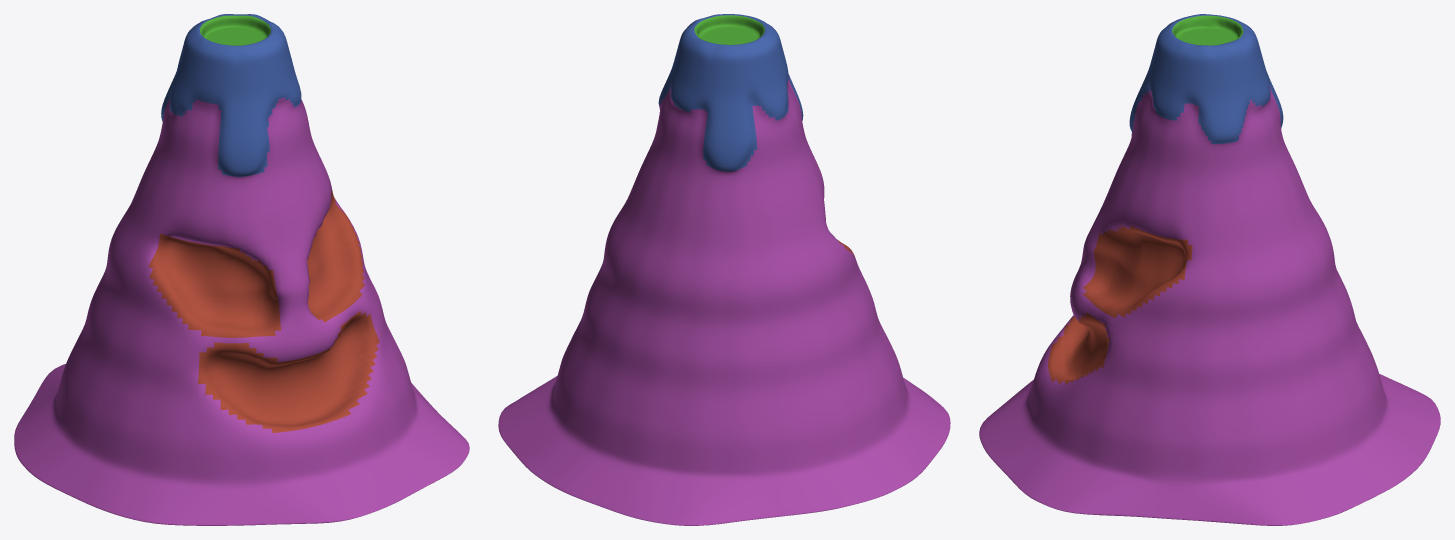
File: Volevil_high.fbx
3 views of the same model, side by side, from view 1: azimuth 30°, elevation 25°; view 2: azimuth 150°, elevation 25°; view 3: azimuth 270°, elevation 25° (orthographic).
Parts seen in each view (by area): view 1: Vol_high; view 2: Vol_high; view 3: Vol_high.
Boxes of the visible parts, left/top/right/bottom form: Vol_high: left=14, top=14, right=469, bottom=525; Vol_high: left=498, top=14, right=950, bottom=525; Vol_high: left=979, top=14, right=1440, bottom=525.
Size of the model in its own units: 20.34 by 20.48 by 21.23.
